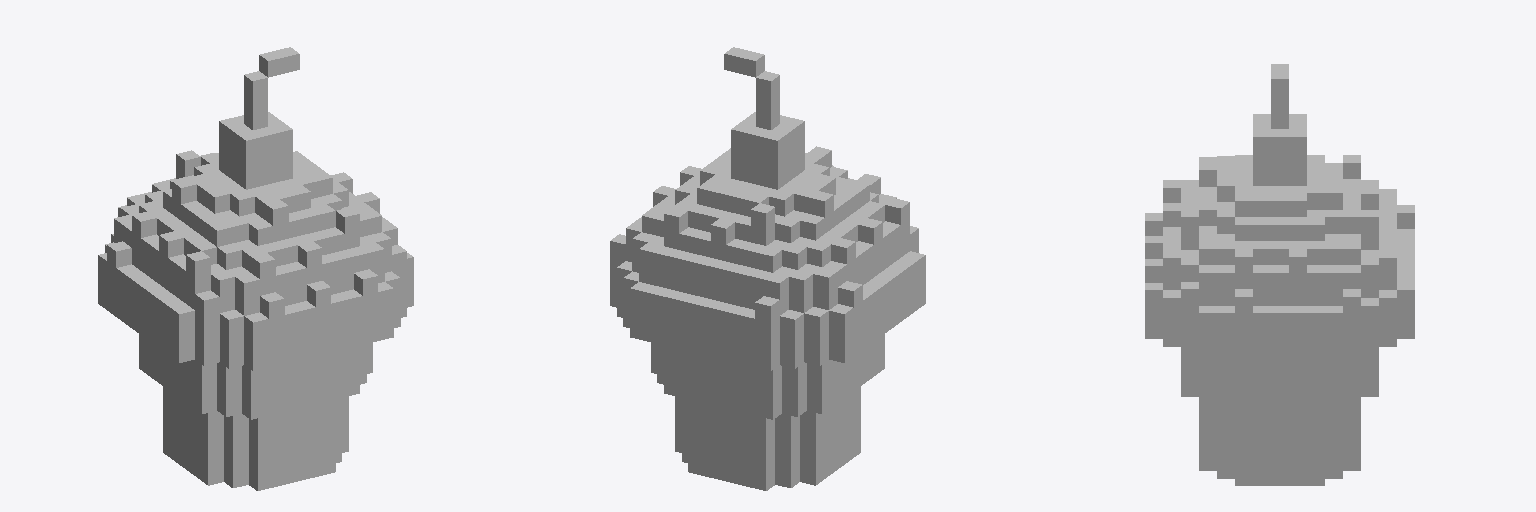
File: cupcake.obj
3 renders of one model, left to right at view 1: azimuth 30°, elevation 25°; view 2: azimuth 150°, elevation 25°; view 3: azimuth 270°, elevation 25°, orthographic.
Visible parts, largest first — view 1: object 1; view 2: object 1; view 3: object 1.
Part boxes in pixels (x1,y1,x2,y2): object 1: (98,47,413,490); object 1: (610,47,925,490); object 1: (1145,64,1414,485).
Bounding box in the file's own units: 1.5 × 2.4 × 1.5.